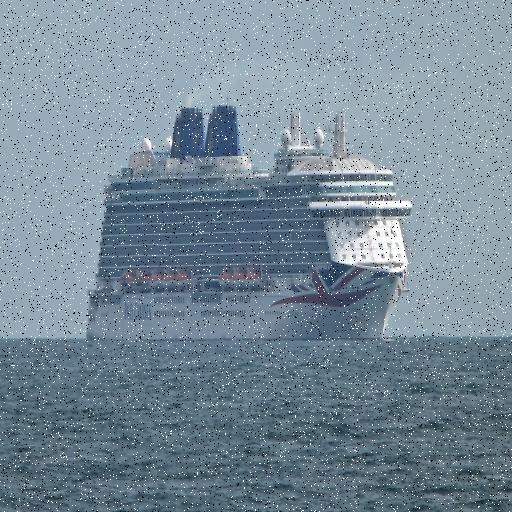cruises: (84, 99, 416, 348)
